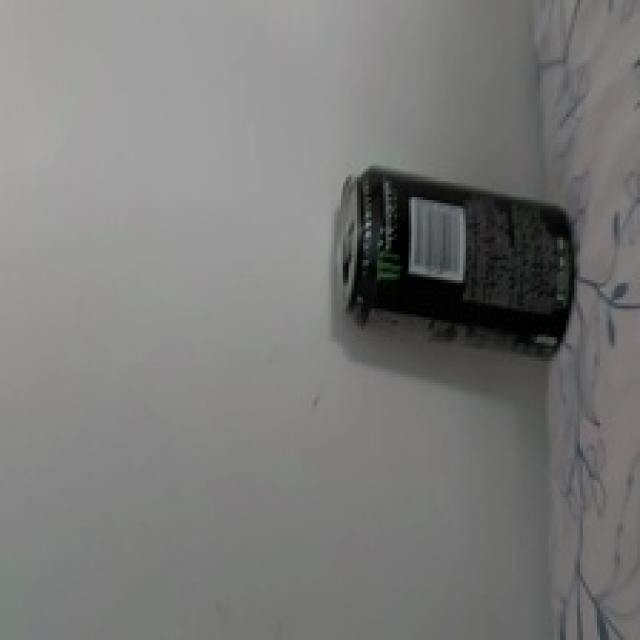recyclable: (335, 162, 580, 362)
